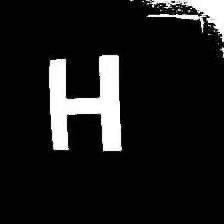LTR_H: (42, 46, 131, 156)
